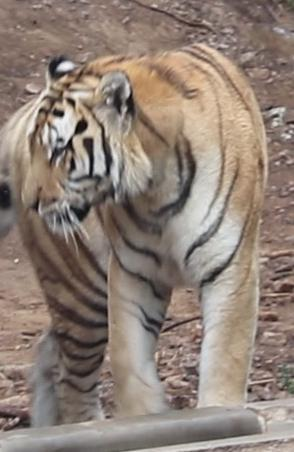tiger: (0, 43, 267, 426)
